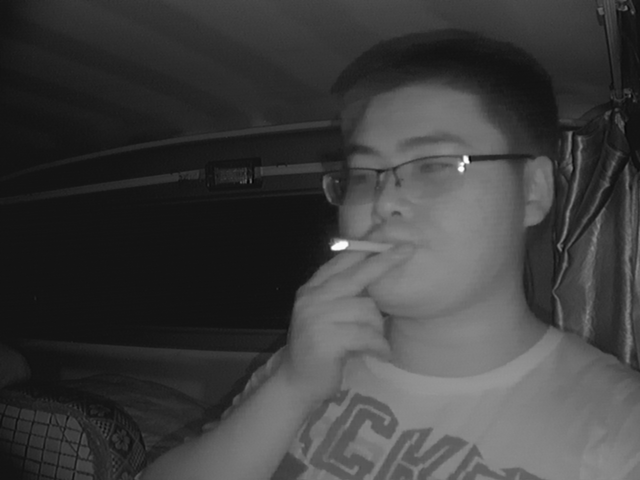hand: (298, 231, 408, 368)
